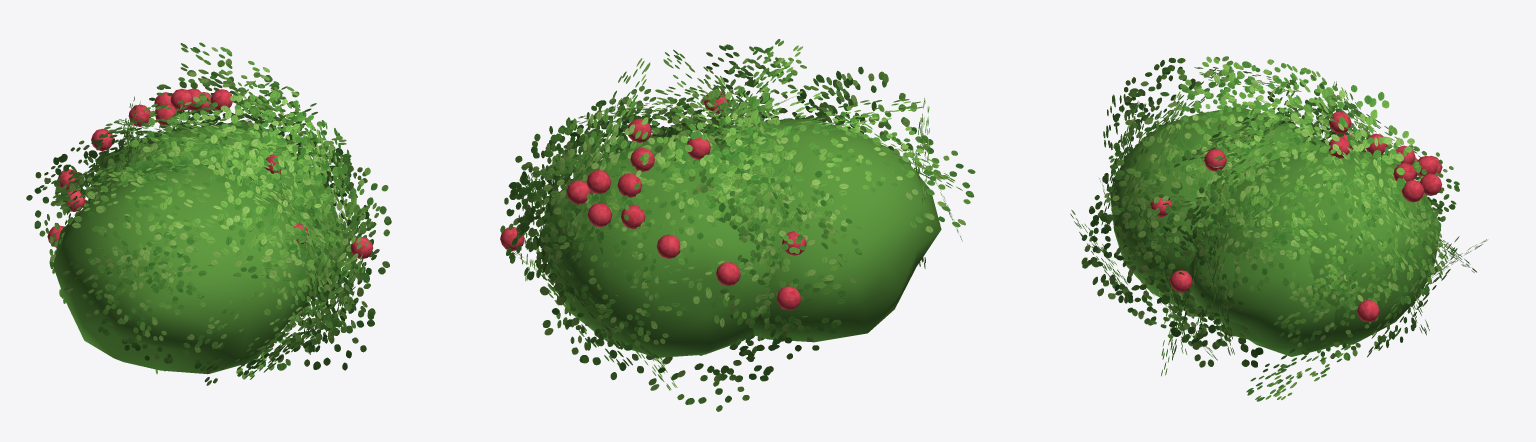
The model's file is plant_bush_berry.glb.
The picture shows the model from 3 angles, left to right: view 1: azimuth 30°, elevation 25°; view 2: azimuth 150°, elevation 25°; view 3: azimuth 270°, elevation 25°; orthographic projection. The views are drawn at different scales.
Parts seen in each view (by area): view 1: bush_berry, bush_berry_bush_core; view 2: bush_berry, bush_berry_bush_core; view 3: bush_berry, bush_berry_bush_core.
Boxes of the visible parts, x1=… form: bush_berry: x1=26, y1=42, x2=391, y2=385; bush_berry_bush_core: x1=53, y1=120, x2=346, y2=373; bush_berry: x1=500, y1=39, x2=975, y2=411; bush_berry_bush_core: x1=545, y1=118, x2=941, y2=357; bush_berry: x1=1070, y1=56, x2=1487, y2=401; bush_berry_bush_core: x1=1110, y1=107, x2=1441, y2=356.
Bounding box in the file's own units: 1.88 × 1.69 × 1.89.
3 materials, 1 textured.
